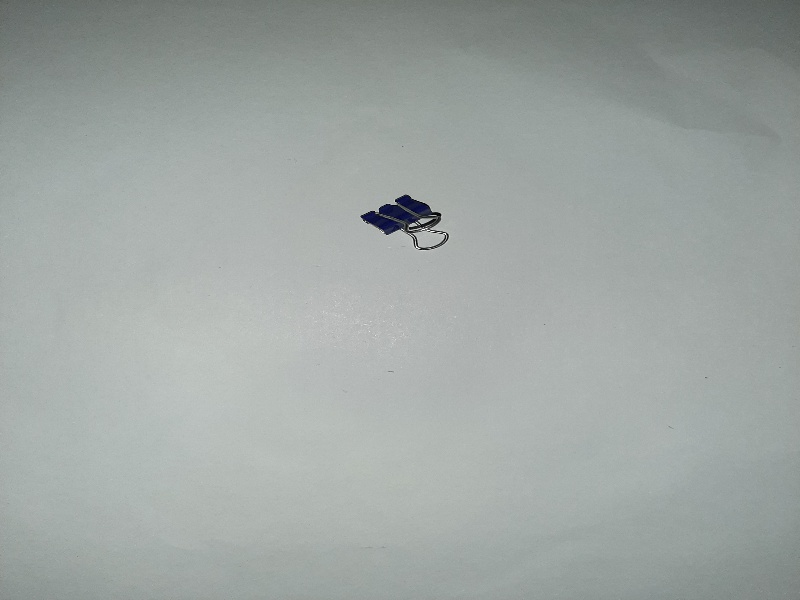Small Paperclip: (355, 185, 458, 254)
